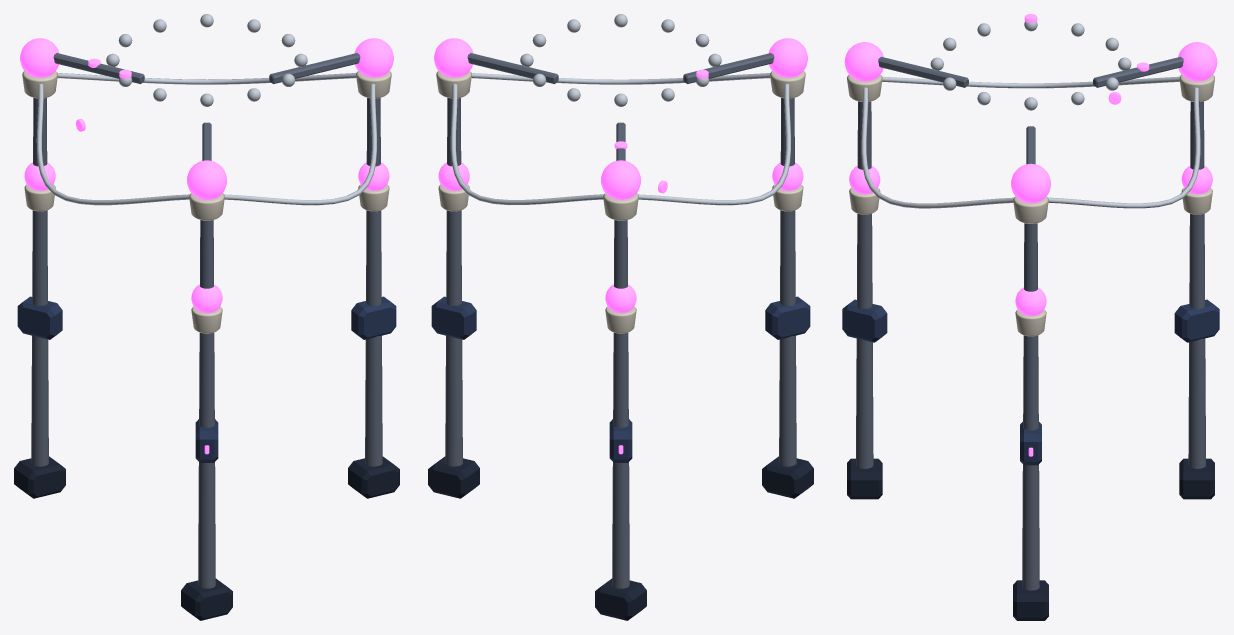
The model's file is tower_arc_range_s7.glb.
The picture shows the model from 3 angles, left to right: view 1: azimuth 30°, elevation 25°; view 2: azimuth 150°, elevation 25°; view 3: azimuth 270°, elevation 25°; orthographic projection.
Visible parts, largest first — view 1: arc_sat_strut2, arc_sat_strut0, arc_sat_strut1, arc_sat_foot0, arc_sat_foot1, arc_sat_foot2, arc_ioniser0, arc_ioniser1, arc_relay_wire1, arc_relay_wire2, arc_relay_wire0, arc_sat_electrode2 (+14 smaller); view 2: arc_sat_strut0, arc_sat_strut2, arc_sat_strut1, arc_sat_foot1, arc_sat_foot2, arc_sat_foot0, arc_ioniser1, arc_ioniser2, arc_relay_wire2, arc_relay_wire0, arc_relay_wire1, arc_sat_electrode0 (+14 smaller); view 3: arc_sat_strut1, arc_sat_strut0, arc_sat_strut2, arc_ioniser0, arc_ioniser2, arc_relay_wire1, arc_relay_wire0, arc_relay_wire2, arc_sat_foot0, arc_sat_foot2, arc_sat_foot1, arc_sat_electrode1 (+14 smaller).
Boxes of the visible parts, box(x1,y1,x2,y2) form: arc_sat_strut2: box(198, 220, 215, 588); arc_sat_strut0: box(31, 98, 48, 466); arc_sat_strut1: box(365, 98, 382, 466); arc_sat_foot0: box(14, 456, 65, 498); arc_sat_foot1: box(348, 456, 399, 498); arc_sat_foot2: box(181, 578, 232, 620); arc_ioniser0: box(17, 296, 62, 339); arc_ioniser1: box(351, 296, 396, 339); arc_relay_wire1: box(224, 84, 377, 205); arc_relay_wire2: box(36, 84, 189, 205); arc_relay_wire0: box(57, 73, 356, 84); arc_sat_electrode2: box(187, 160, 226, 199); arc_sat_strut0: box(612, 220, 629, 588); arc_sat_strut2: box(779, 98, 796, 466); arc_sat_strut1: box(445, 98, 462, 466); arc_sat_foot1: box(428, 456, 479, 498); arc_sat_foot2: box(762, 456, 813, 498); arc_sat_foot0: box(595, 578, 646, 620); arc_ioniser1: box(431, 296, 476, 339); arc_ioniser2: box(765, 296, 810, 339); arc_relay_wire2: box(638, 84, 791, 205); arc_relay_wire0: box(450, 84, 603, 205); arc_relay_wire1: box(471, 73, 770, 84); arc_sat_electrode0: box(601, 160, 640, 199); arc_sat_strut1: box(1022, 223, 1039, 590); arc_sat_strut0: box(1188, 101, 1205, 468); arc_sat_strut2: box(856, 101, 873, 468); arc_ioniser0: box(1174, 299, 1219, 342); arc_ioniser2: box(842, 299, 887, 342); arc_relay_wire1: box(861, 87, 1013, 208); arc_relay_wire0: box(1048, 87, 1200, 208); arc_relay_wire2: box(882, 76, 1179, 88); arc_sat_foot0: box(1179, 458, 1214, 499); arc_sat_foot2: box(847, 458, 882, 499); arc_sat_foot1: box(1013, 580, 1048, 620); arc_sat_electrode1: box(1011, 163, 1050, 203).
Size of the model in its own units: 1.75 by 2.36 by 1.69.
